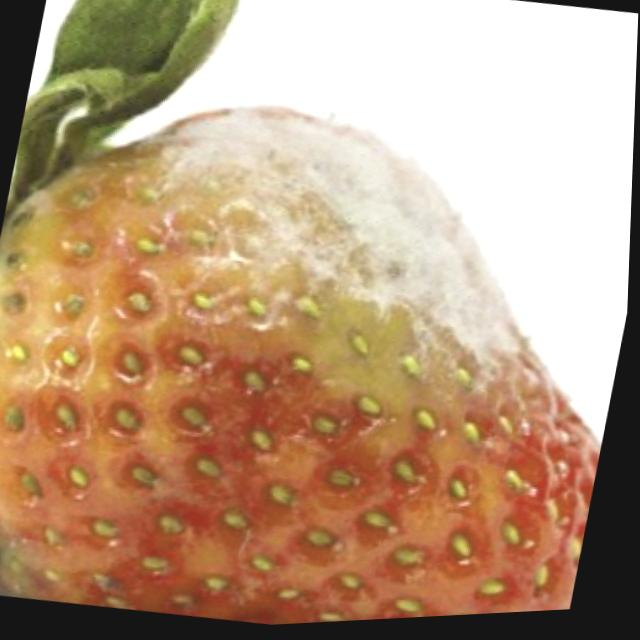Powdery Mildew Fruit: (106, 103, 575, 441)
